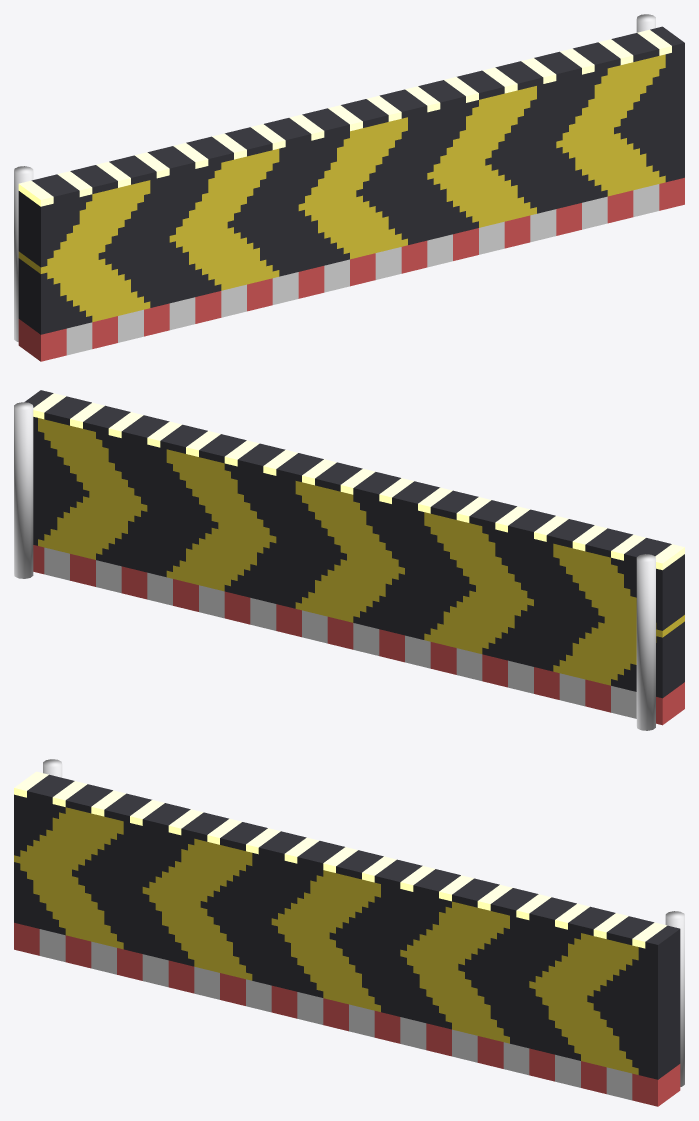
File: T11_Chevron_Barrier.glb
The picture shows the model from 3 angles, top to bottom: view 1: azimuth 30°, elevation 25°; view 2: azimuth 150°, elevation 25°; view 3: azimuth 330°, elevation 25°; orthographic projection.
Visible parts, largest first — view 1: T11_Chevron_Barrier_Mesh; view 2: T11_Chevron_Barrier_Mesh; view 3: T11_Chevron_Barrier_Mesh.
Part boxes in pixels (x1=…): T11_Chevron_Barrier_Mesh: x1=14, y1=14, x2=684, y2=361; T11_Chevron_Barrier_Mesh: x1=14, y1=390, x2=684, y2=730; T11_Chevron_Barrier_Mesh: x1=14, y1=759, x2=684, y2=1106.
Bounding box in the file's own units: 6 × 1.5 × 0.53.
